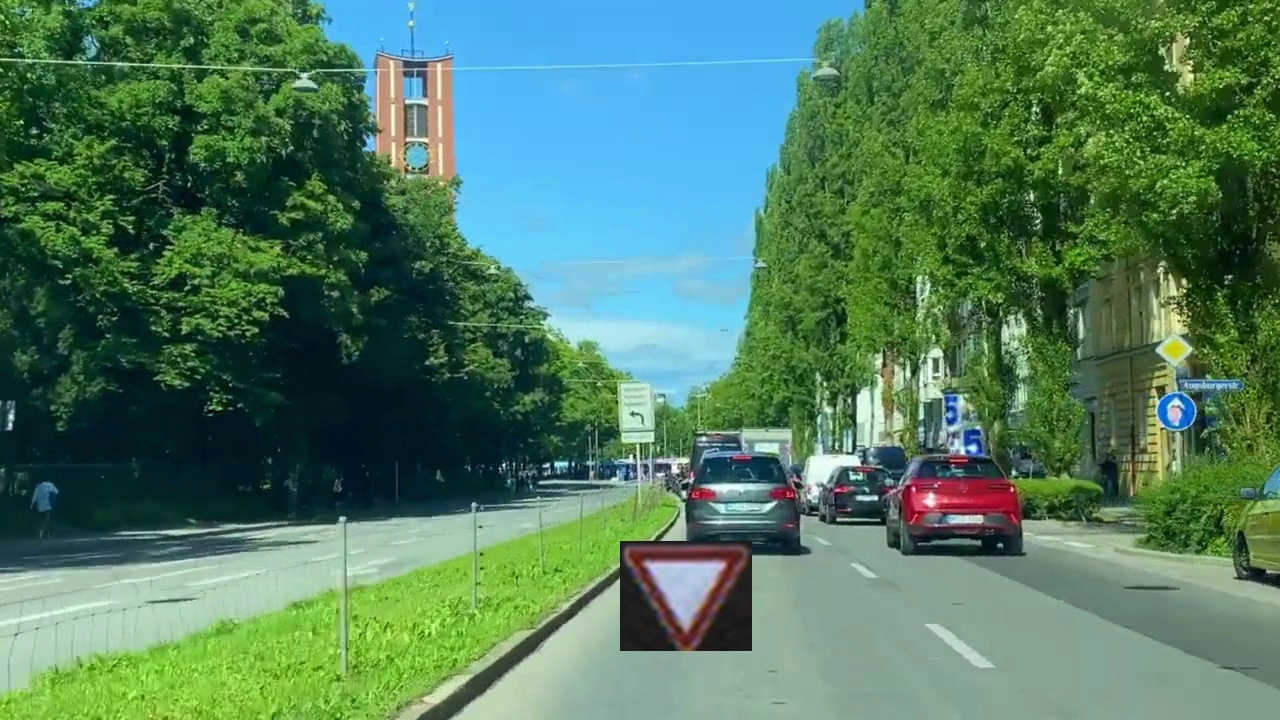Yield: (620, 541, 752, 651)
